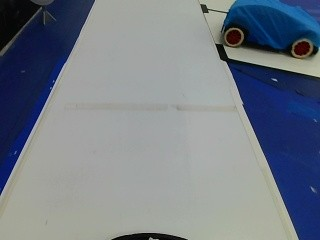car: (216, 0, 318, 60)
